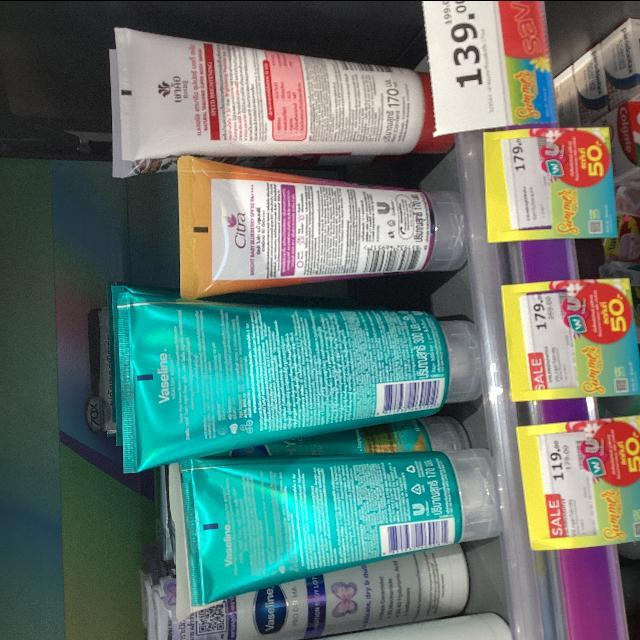Squeeze Tube: (47, 0, 553, 622), (107, 282, 492, 485), (161, 434, 518, 620), (108, 21, 454, 177), (178, 163, 486, 286)
